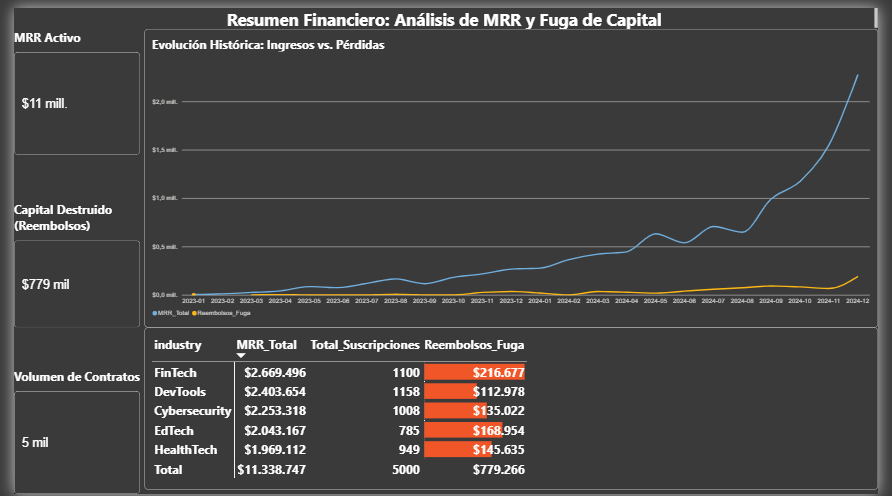

This screenshot's page, from the dashboard's own definition file:
{"tool":"powerbi","page":{"name":"Resumen Financiero","canvas":[1920,1080],"ordinal":0},"visuals":[{"type":"cardVisual","title":"MRR Activo","fields":{"Data":["_Medidas.MRR_Total"]},"box":[0,46.7,280,280],"z":0},{"type":"cardVisual","title":"Capital Destruido (Reembolsos)","fields":{"Data":["_Medidas.Reembolsos_Fuga"]},"box":[0,430,280,280],"z":1000},{"type":"cardVisual","title":"Volumen de Contratos","fields":{"Data":["_Medidas.Total_Suscripciones"]},"box":[0,800,280,280],"z":2000},{"type":"lineChart","title":"Evolución Histórica: Ingresos vs. Pérdidas","fields":{"Category":["Dim_Calendario.Año_Mes"],"Y":["_Medidas.MRR_Total","_Medidas.Reembolsos_Fuga"]},"box":[290,46.7,1630,663.3],"z":2001},{"type":"pivotTable","fields":{"Rows":["ravenstack_accounts.industry"],"Values":["_Medidas.MRR_Total","_Medidas.Total_Suscripciones","_Medidas.Reembolsos_Fuga"]},"box":[290,710,1630,360],"z":2002},{"type":"textbox","box":[0,0,1920,46.7],"z":2003}]}

Visuals, with their boxes in screenshot pixels (x1, y1, x2, y2), scaled from the page's 1920x1080 canvas onto the 892x496 screenshot:
"MRR Activo" cardVisual: 0/21/130/150
"Capital Destruido (Reembolsos)" cardVisual: 0/197/130/326
"Volumen de Contratos" cardVisual: 0/367/130/495
"Evolución Histórica: Ingresos vs. Pérdidas" lineChart: 135/21/891/326
pivotTable - ravenstack_accounts.industry x _Medidas.MRR_Total: 135/326/891/491
textbox: 0/0/891/21
